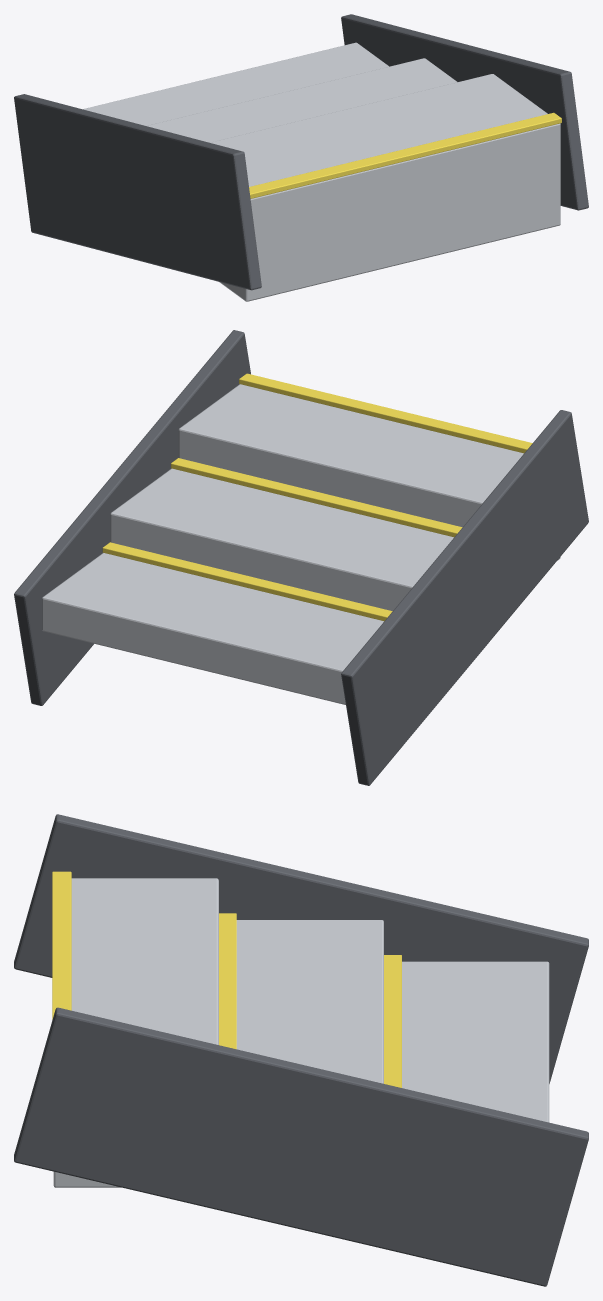
The model's file is StationSteps.fbx.
3 views of the same model, one above another, from view 1: azimuth 30°, elevation 25°; view 2: azimuth 150°, elevation 25°; view 3: azimuth 270°, elevation 25° (orthographic). The views are drawn at different scales.
Parts seen in each view (by area): view 1: Step2, CheekL, CheekR, Step1, Step0, Nosing2; view 2: CheekL, Step0, Step2, Step1, CheekR, Nosing2, Nosing1, Nosing0; view 3: CheekR, CheekL, Step2, Step1, Step0, Nosing2, Nosing1, Nosing0.
Boxes of the visible parts, x1,y1,x2,y2 form: Step2: (210,74,560,301); CheekL: (14,94,261,290); CheekR: (341,14,588,210); Step1: (147,58,457,142); Step0: (83,42,388,125); Nosing2: (249,112,561,198); CheekL: (341,410,588,785); Step0: (42,553,383,704); Step2: (178,384,560,560); Step1: (110,468,453,611); CheekR: (14,330,250,705); Nosing2: (239,373,532,453); Nosing1: (171,458,462,537); Nosing0: (102,542,392,621); CheekR: (14,1007,588,1286); CheekL: (14,814,588,1083); Step2: (53,878,218,1187); Step1: (236,920,383,1083); Step0: (402,961,549,1122); Nosing2: (52,871,71,1019); Nosing1: (219,913,236,1049); Nosing0: (384,955,401,1087).
Bounding box in the file's own units: 1.72 × 1.1 × 2.09.
